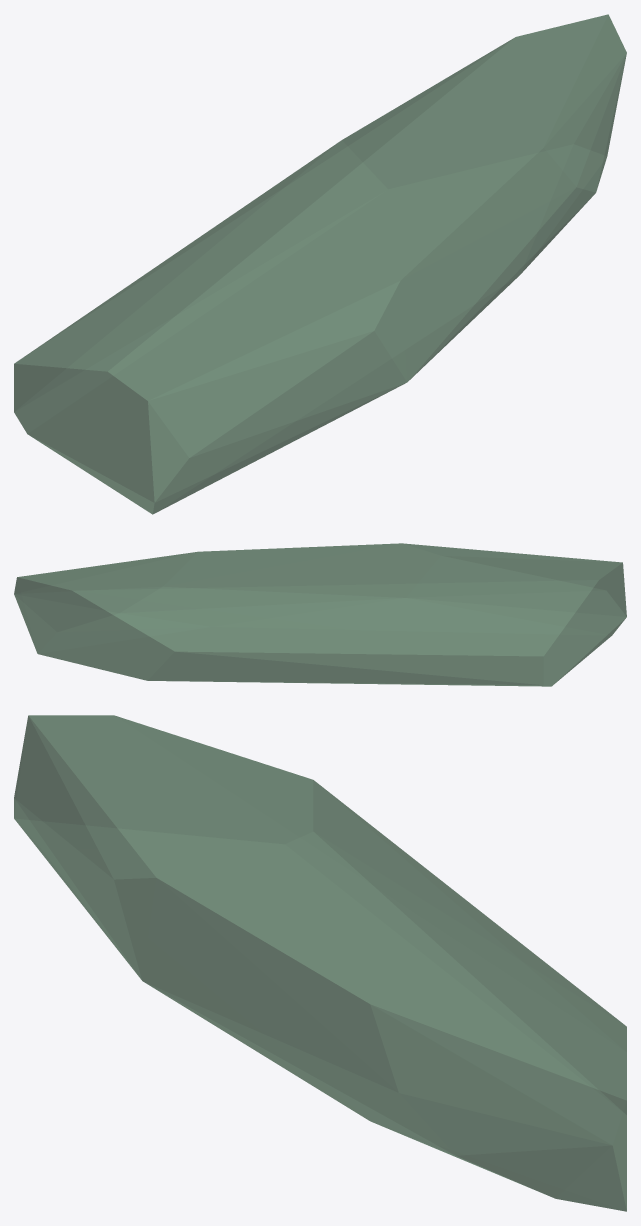
The picture shows the model from 3 angles, top to bottom: view 1: azimuth 30°, elevation 25°; view 2: azimuth 150°, elevation 25°; view 3: azimuth 270°, elevation 25°; orthographic projection. The views are drawn at different scales.
Parts seen in each view (by area): view 1: Shape_IndexedFaceSet.059_Shape_IndexedFaceSet.6322; view 2: Shape_IndexedFaceSet.059_Shape_IndexedFaceSet.6322; view 3: Shape_IndexedFaceSet.059_Shape_IndexedFaceSet.6322.
Boxes of the visible parts, bbox=[...] form: Shape_IndexedFaceSet.059_Shape_IndexedFaceSet.6322: bbox=[14, 14, 626, 514]; Shape_IndexedFaceSet.059_Shape_IndexedFaceSet.6322: bbox=[14, 543, 626, 686]; Shape_IndexedFaceSet.059_Shape_IndexedFaceSet.6322: bbox=[14, 715, 626, 1211].
Size of the model in its own units: 0.1544 by 0.0238 by 0.1022.
